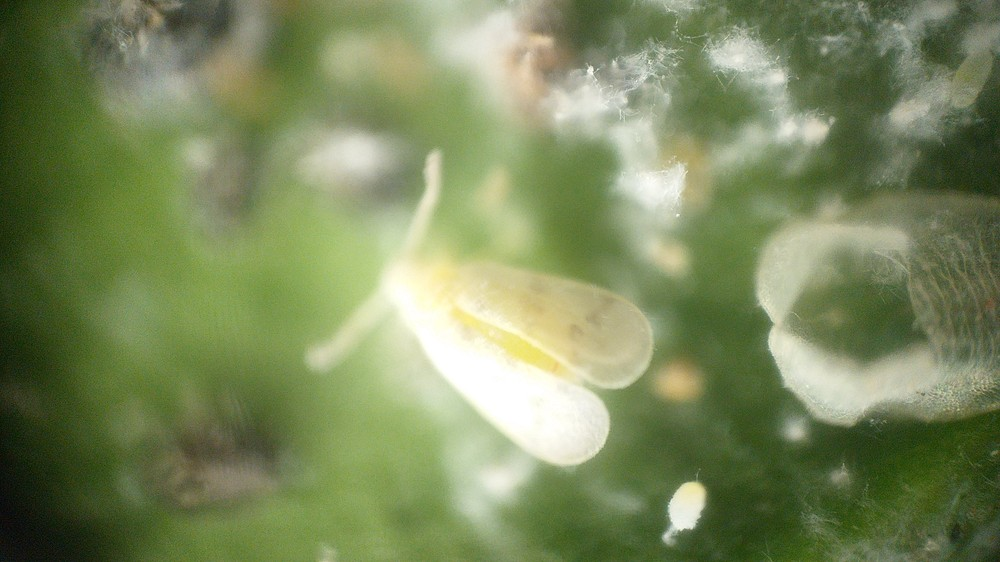Mosca Blanca: (283, 136, 676, 490)
